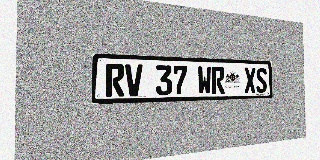3: (156, 65, 172, 96)
7: (172, 65, 187, 95)
R: (106, 63, 124, 97), (211, 66, 225, 94)
S: (256, 68, 267, 93)
V: (125, 64, 143, 96)
W: (197, 66, 211, 94)
X: (244, 67, 256, 93)
